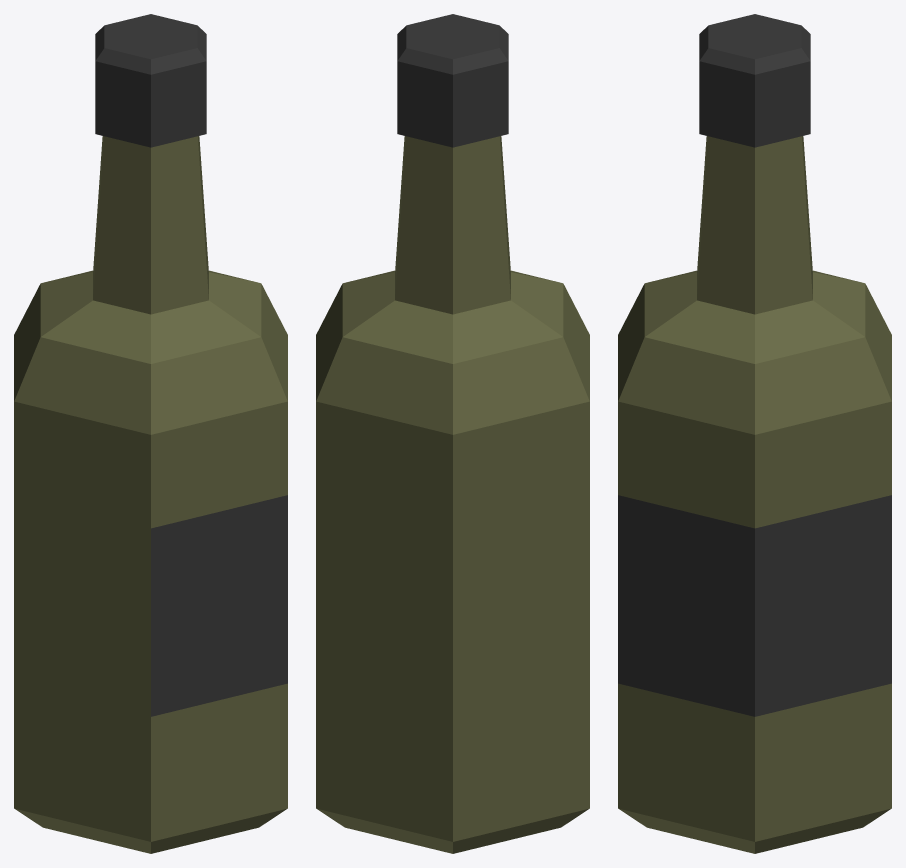
File: model_bottle_01.fbx
3 renders of one model, left to right at view 1: azimuth 30°, elevation 25°; view 2: azimuth 150°, elevation 25°; view 3: azimuth 270°, elevation 25°, orthographic.
Visible parts, largest first — view 1: model_bottle_01; view 2: model_bottle_01; view 3: model_bottle_01.
Boxes of the visible parts, <box> form: model_bottle_01: <box>14,14,287,853</box>; model_bottle_01: <box>316,14,589,853</box>; model_bottle_01: <box>618,14,891,853</box>.
Bounding box in the file's own units: 14.88 × 39.71 × 12.88.
1 material, 1 textured.
